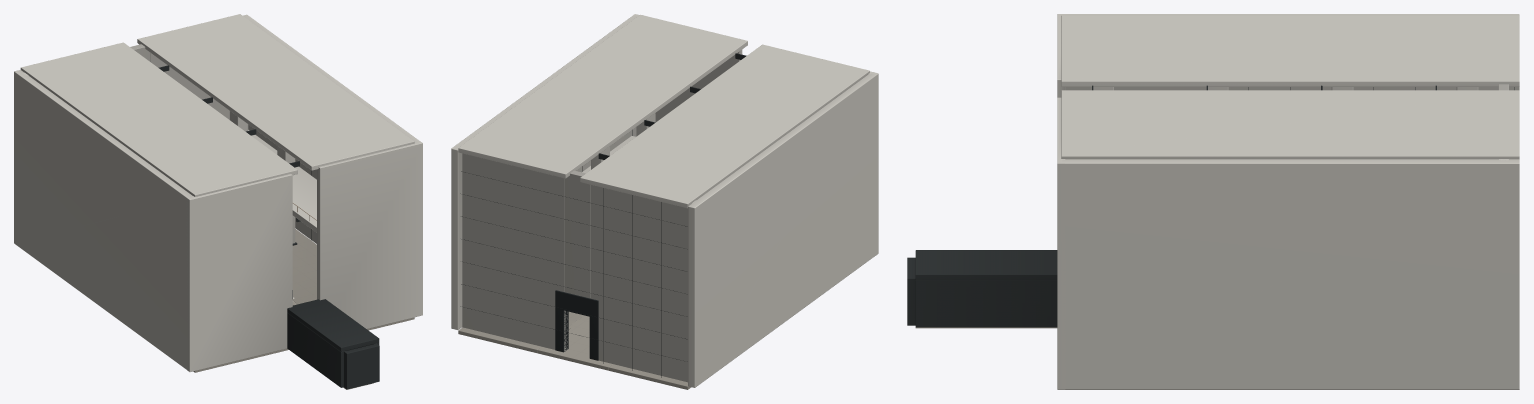
The model's file is vestibule.glb.
3 views of the same model, side by side, from view 1: azimuth 30°, elevation 25°; view 2: azimuth 150°, elevation 25°; view 3: azimuth 270°, elevation 25° (orthographic). The views are drawn at different scales.
Parts seen in each view (by area): view 1: V-main-wall--16.5, V-roof-slit-8.5, V-roof-slit--8.5, V-entry-return--9.5, V-entry-return-9.5, V-compression-roof, V-compression--2.4, V-east-floor, V-main-wall-16.5, V-cantilever-11.6, V-compression-end, V-door-wall-R; view 2: V-main-wall--16.5, V-roof-slit-8.5, V-roof-slit--8.5, V-door-wall-R, V-door-wall-L, V-main-wall-16.5, V-door-wall-top, V-north-floor, V-entry-return-9.5, V-east-floor, V-portal-monolith-2.4, V-portal-crown (+3 smaller); view 3: V-main-wall-16.5, V-roof-slit--8.5, V-roof-slit-8.5, V-compression-2.4, V-compression-roof, V-main-wall--16.5, V-entry-return-9.5, V-compression-end.
Part boxes in pixels (x1=…): V-main-wall--16.5: x1=14, y1=70, x2=193, y2=370; V-roof-slit-8.5: x1=137, y1=14, x2=414, y2=170; V-roof-slit--8.5: x1=20, y1=42, x2=297, y2=196; V-entry-return--9.5: x1=186, y1=174, x2=292, y2=371; V-entry-return-9.5: x1=317, y1=141, x2=422, y2=328; V-compression-roof: x1=287, y1=299, x2=379, y2=351; V-compression--2.4: x1=287, y1=313, x2=345, y2=387; V-east-floor: x1=292, y1=229, x2=414, y2=330; V-main-wall-16.5: x1=243, y1=14, x2=420, y2=243; V-cantilever-11.6: x1=248, y1=130, x2=316, y2=232; V-compression-end: x1=344, y1=343, x2=379, y2=389; V-door-wall-R: x1=150, y1=18, x2=249, y2=129; V-main-wall--16.5: x1=688, y1=73, x2=876, y2=387; V-roof-slit-8.5: x1=458, y1=14, x2=747, y2=178; V-roof-slit--8.5: x1=580, y1=44, x2=869, y2=208; V-door-wall-R: x1=462, y1=143, x2=567, y2=351; V-door-wall-L: x1=590, y1=184, x2=696, y2=382; V-main-wall-16.5: x1=451, y1=15, x2=637, y2=329; V-door-wall-top: x1=564, y1=170, x2=590, y2=298; V-north-floor: x1=537, y1=315, x2=612, y2=370; V-entry-return-9.5: x1=632, y1=14, x2=742, y2=122; V-east-floor: x1=458, y1=311, x2=583, y2=352; V-portal-monolith-2.4: x1=555, y1=290, x2=568, y2=352; V-portal-crown: x1=555, y1=290, x2=598, y2=318; V-main-wall-16.5: x1=1062, y1=159, x2=1519, y2=389; V-roof-slit--8.5: x1=1061, y1=15, x2=1519, y2=86; V-roof-slit-8.5: x1=1061, y1=90, x2=1519, y2=159; V-compression-2.4: x1=915, y1=280, x2=1057, y2=327; V-compression-roof: x1=915, y1=250, x2=1057, y2=280; V-main-wall--16.5: x1=1062, y1=14, x2=1519, y2=90; V-entry-return-9.5: x1=1057, y1=97, x2=1065, y2=389; V-compression-end: x1=907, y1=257, x2=915, y2=325.
Bounding box in the file's own units: 34 × 28.78 × 58.8.
Materials: 6 (5 with a texture image).
